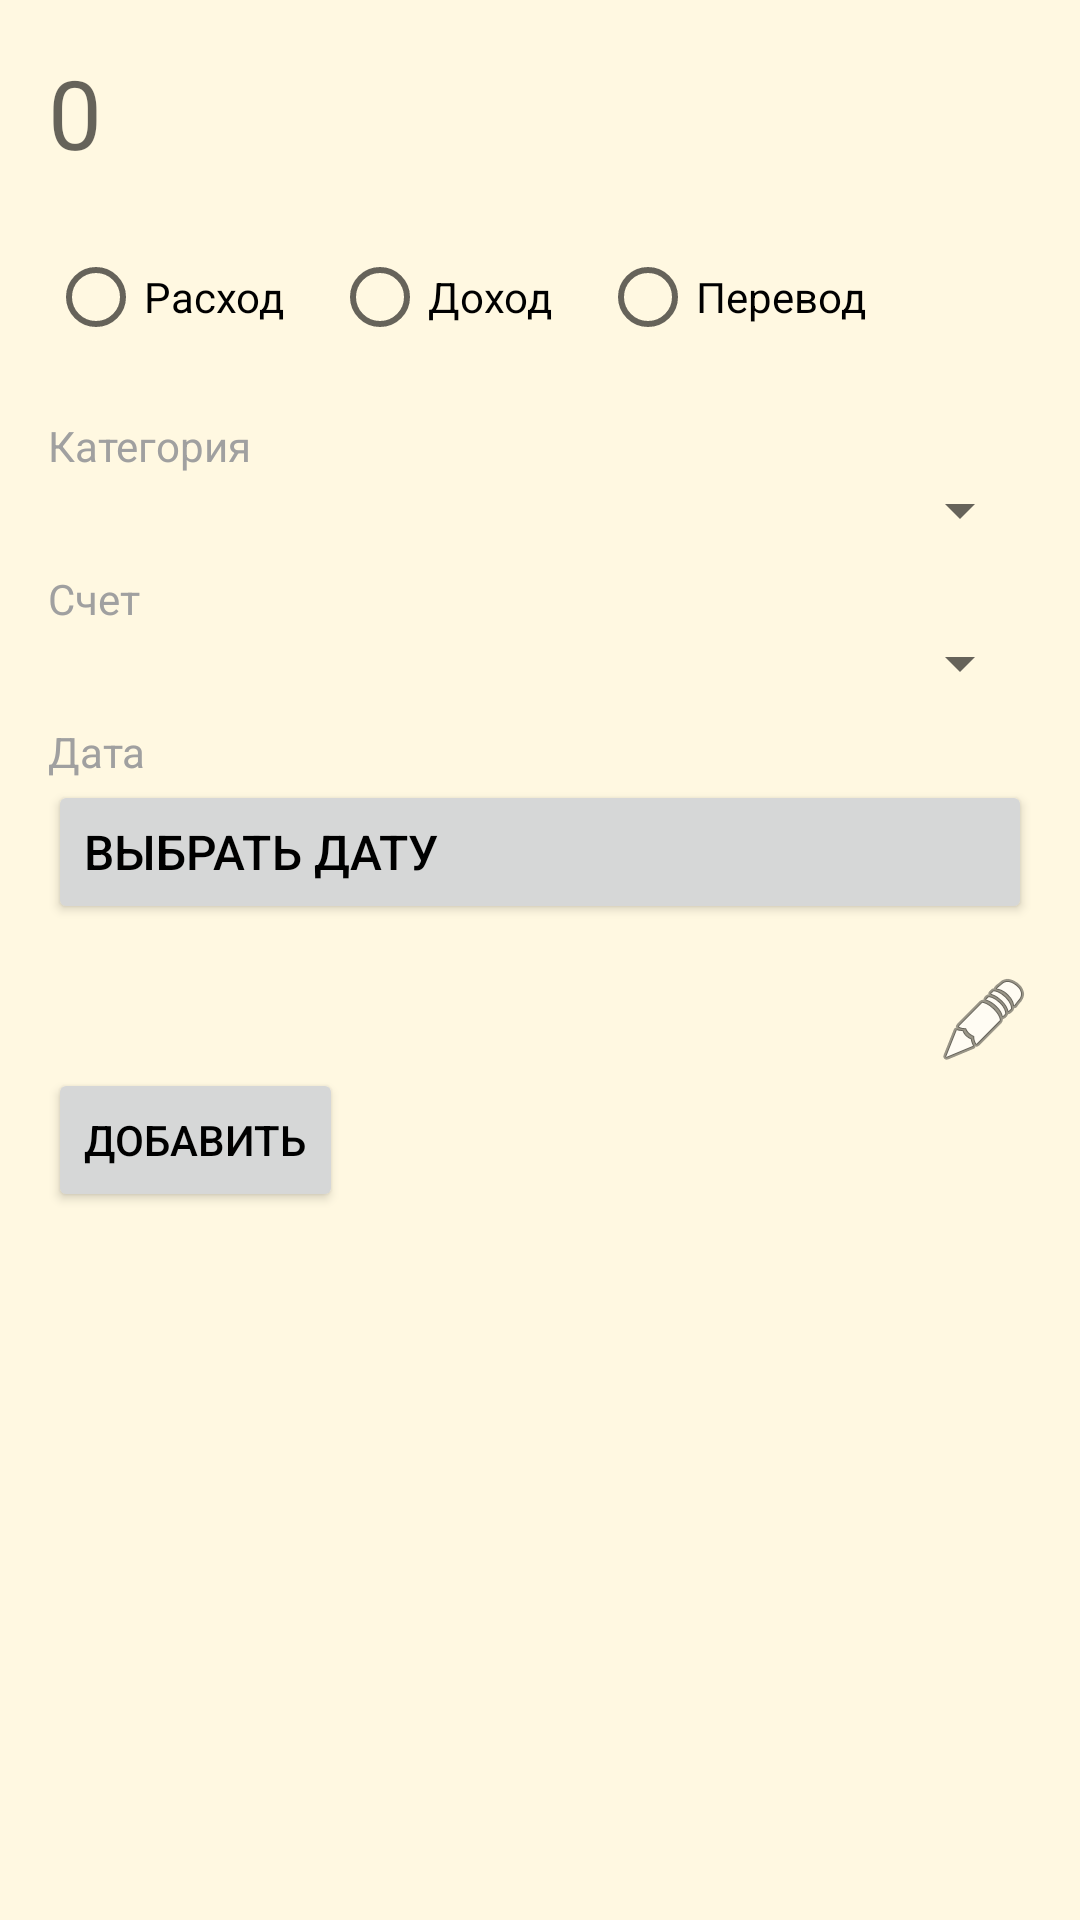

Icon click points for this 1080*1920 phone screenshot, format point (x, y):
Редактировать: point (983, 1019)
